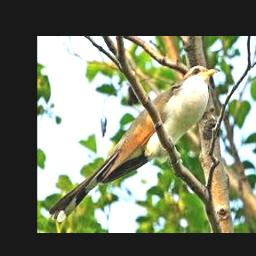Cuckoo: (49, 66, 220, 223)
